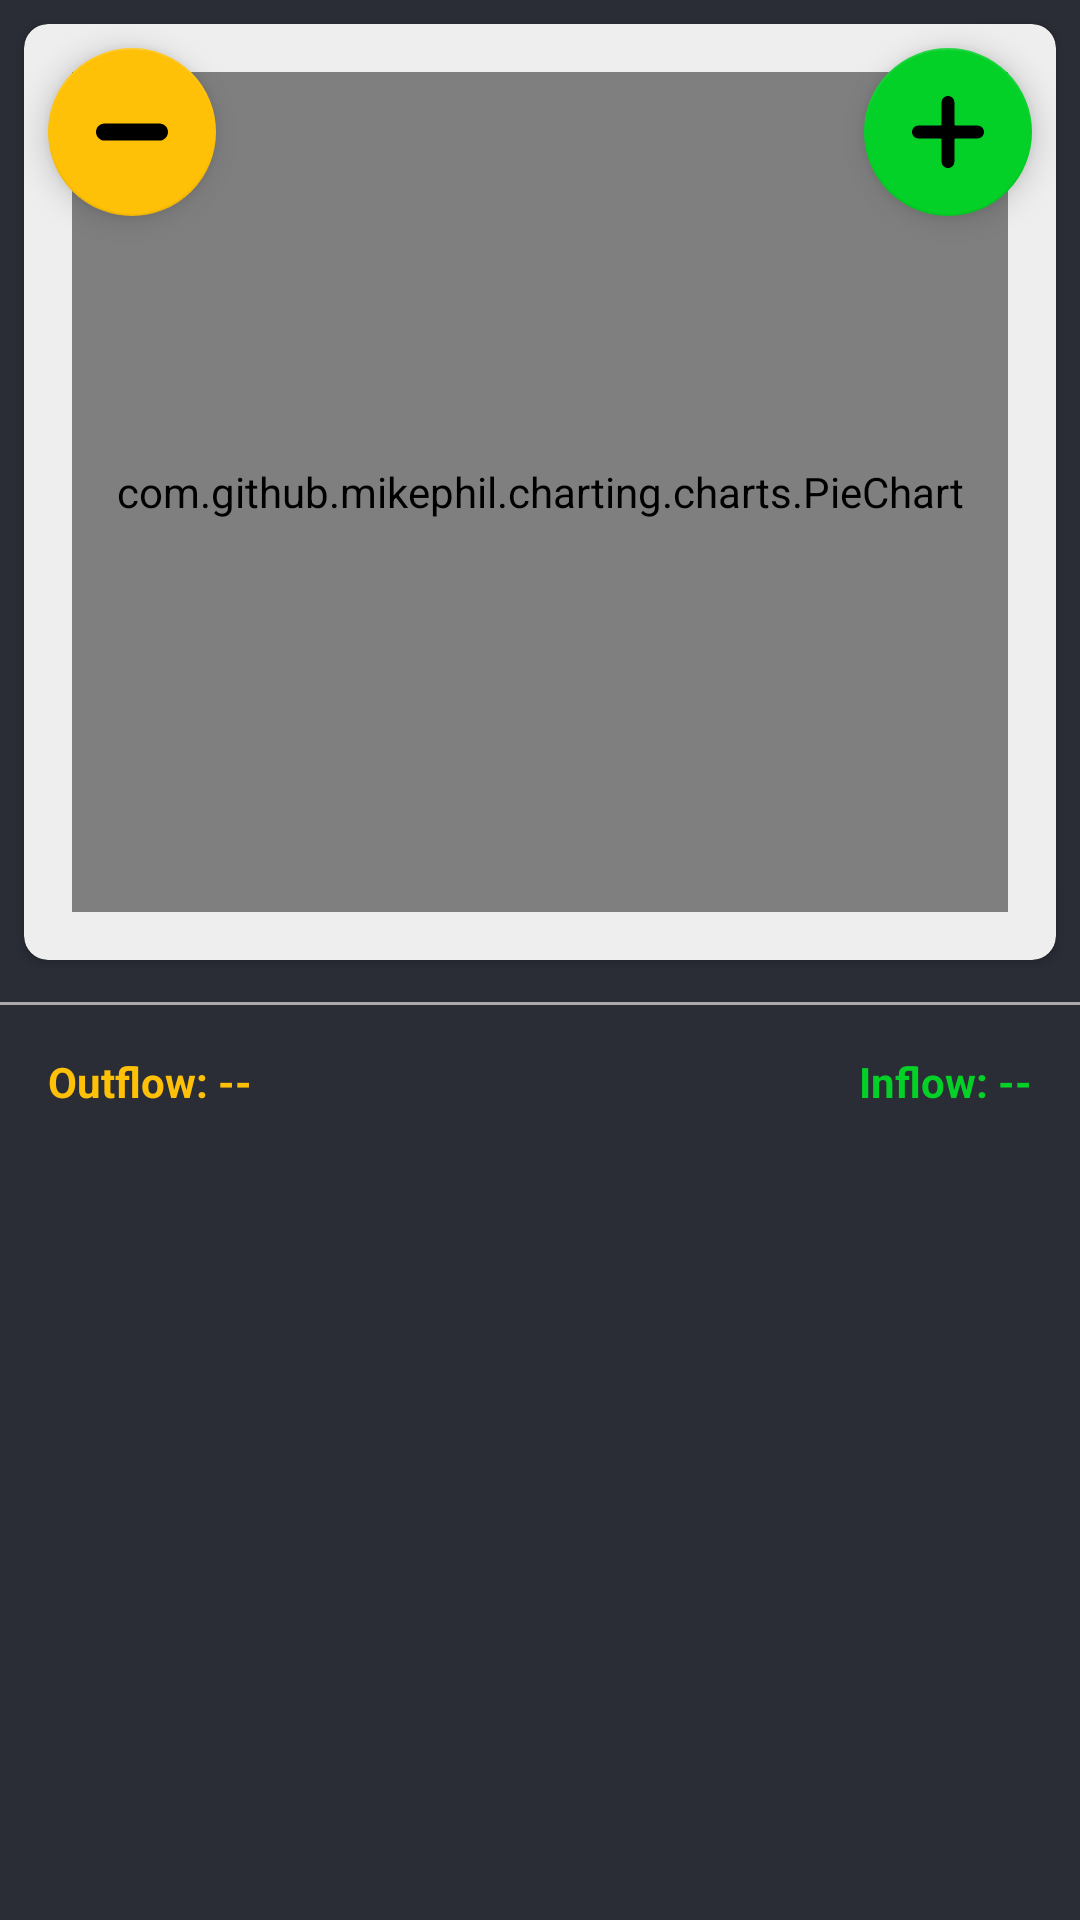

Icons on this 1080 x 1920 Android screen, each with the point to tap as (x=x, y=y):
add: (x=948, y=132)
minus: (x=132, y=132)
